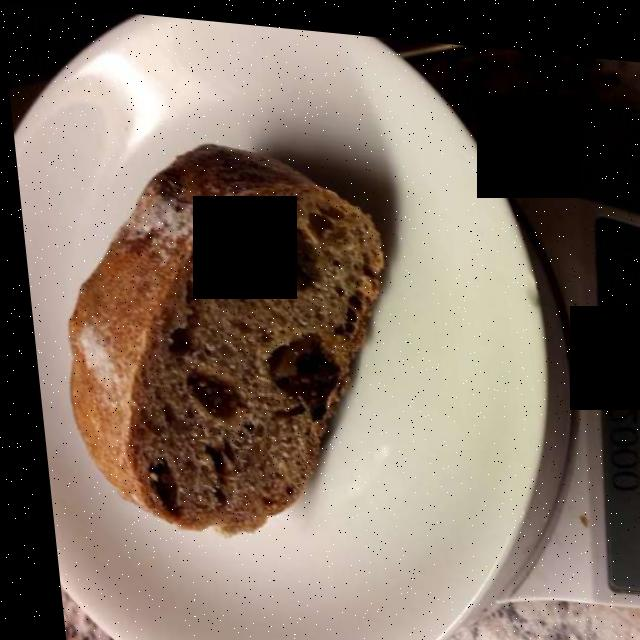bread-fruit: (56, 147, 374, 530), (65, 141, 374, 521)
